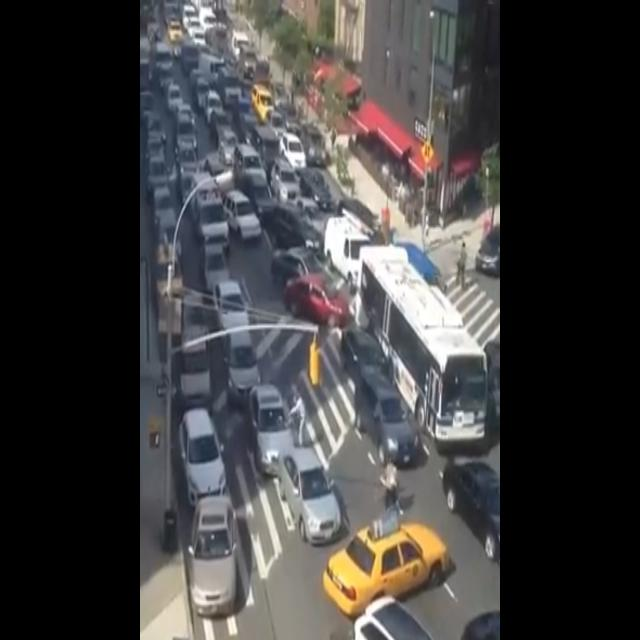Ambulance: (189, 165, 235, 252)
